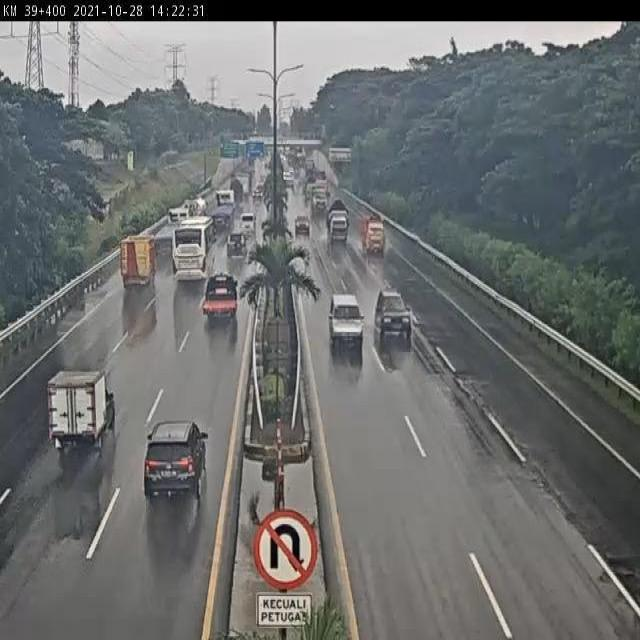bus-l-: (172, 216, 215, 281)
car: (46, 370, 119, 454), (144, 418, 208, 506), (373, 288, 415, 344), (226, 230, 247, 258)
truck-l-: (135, 207, 188, 261), (205, 188, 236, 233)
truck-m-: (178, 193, 206, 224)
truck-s-: (201, 272, 240, 320), (120, 236, 153, 289), (323, 198, 350, 246), (359, 212, 387, 257)
